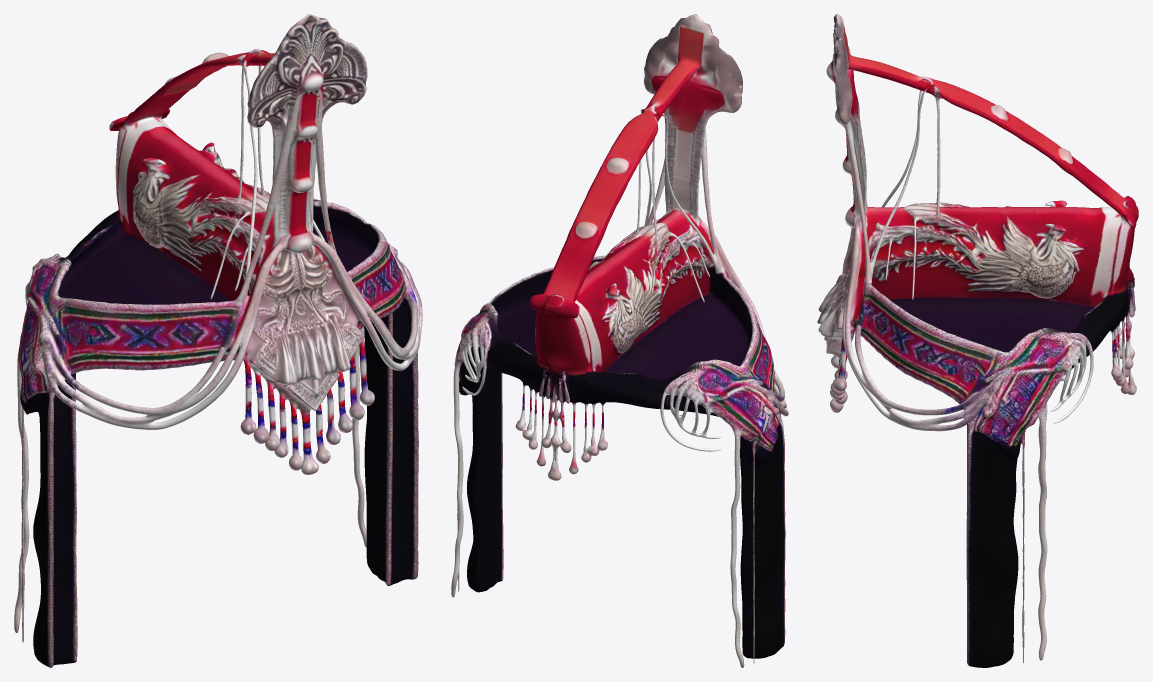
The model's file is base_basic_pbr.glb.
3 renders of one model, left to right at view 1: azimuth 30°, elevation 25°; view 2: azimuth 150°, elevation 25°; view 3: azimuth 270°, elevation 25°, orthographic. The views are drawn at different scales.
Visible parts, largest first — view 1: model; view 2: model; view 3: model.
Part boxes in pixels (bbox=[...]): model: bbox=[14, 14, 422, 667]; model: bbox=[451, 14, 788, 667]; model: bbox=[817, 14, 1138, 667].
Size of the model in its own units: 1.12 by 1.89 by 0.9561.
1 material, 1 textured.
